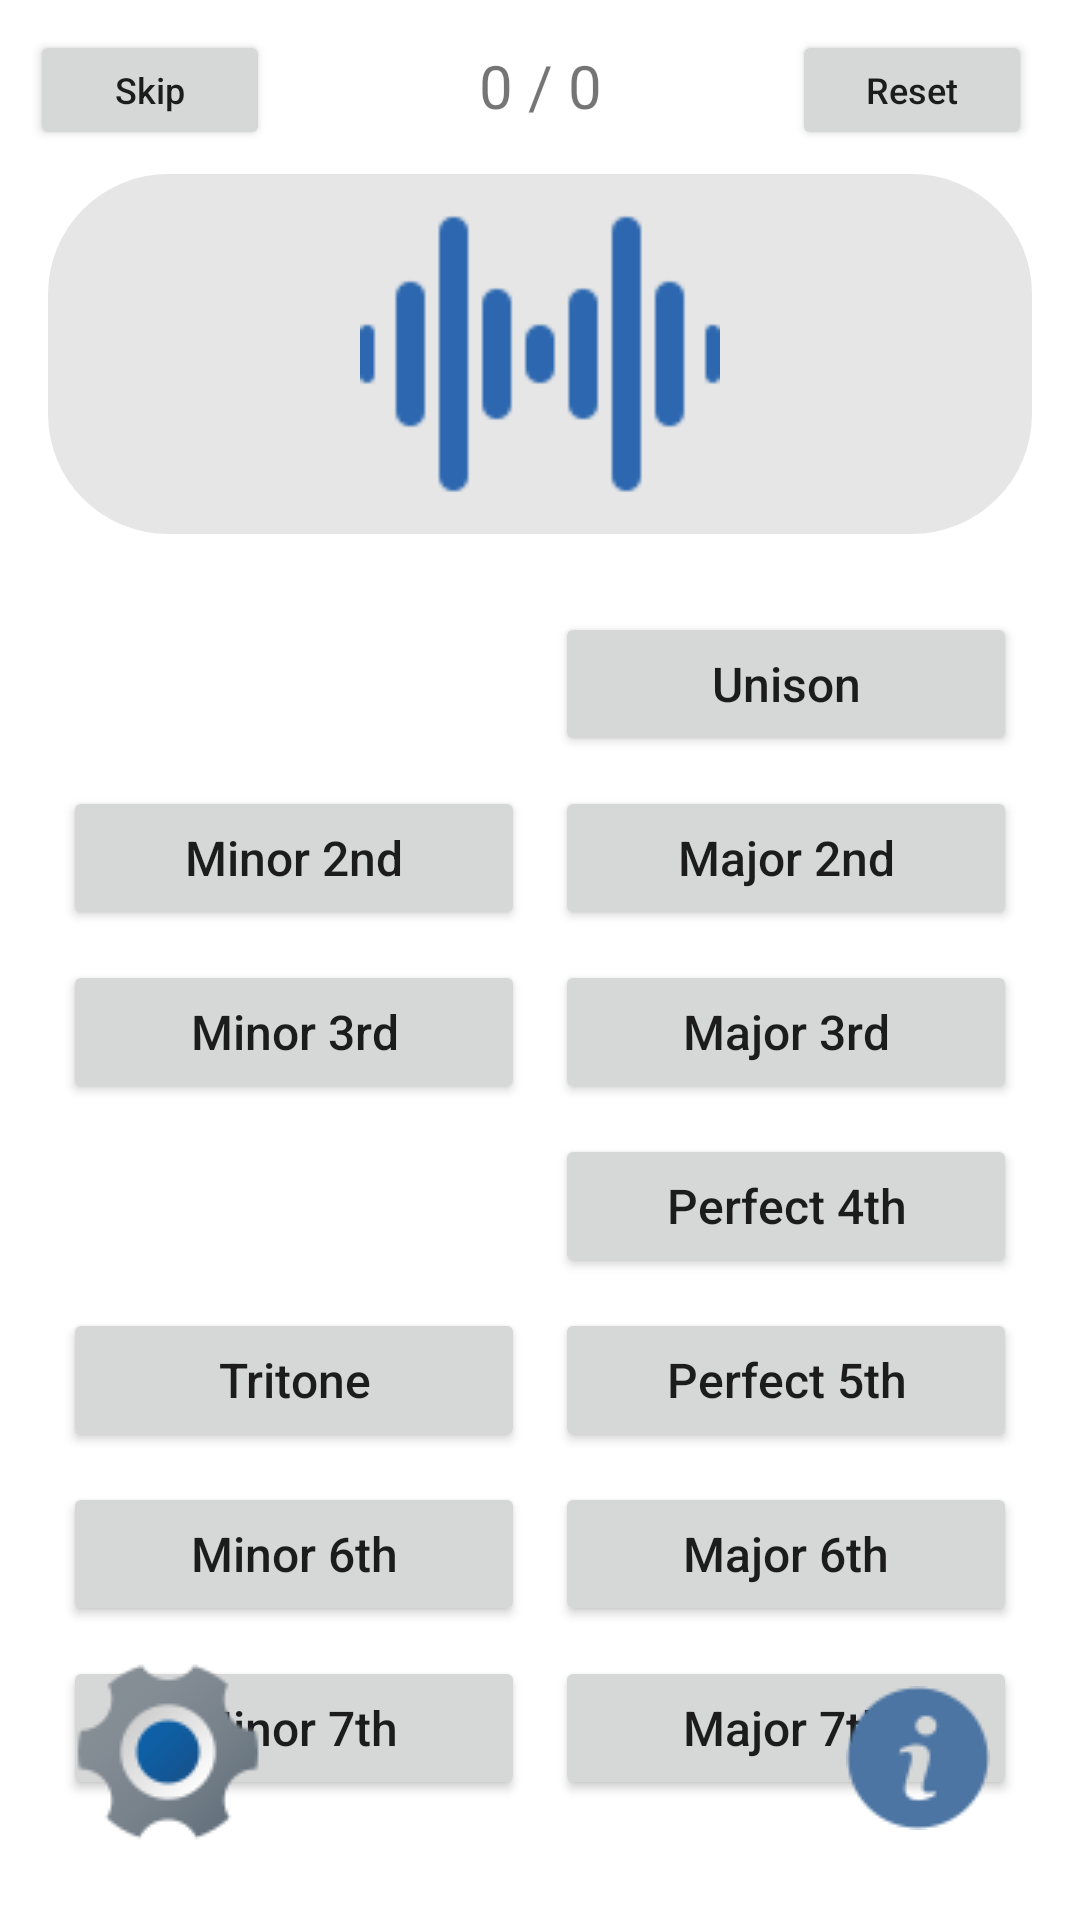

Where to tap for icons on this 1080px×1920px app screen, as point (x, y):
info: point (918, 1758)
setting: point (175, 1752)
